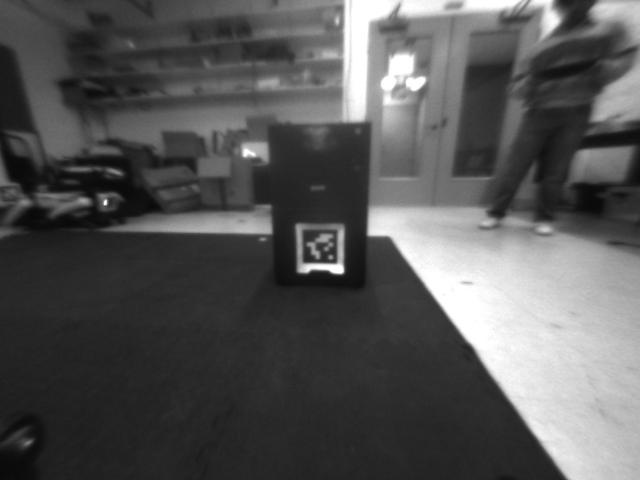door_handle: (419, 120, 439, 136)
drawer: (297, 124, 337, 153)
